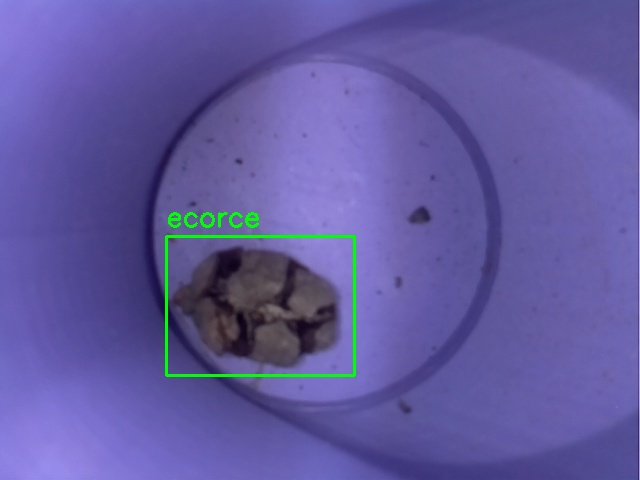ecorce: (166, 236, 354, 375)
